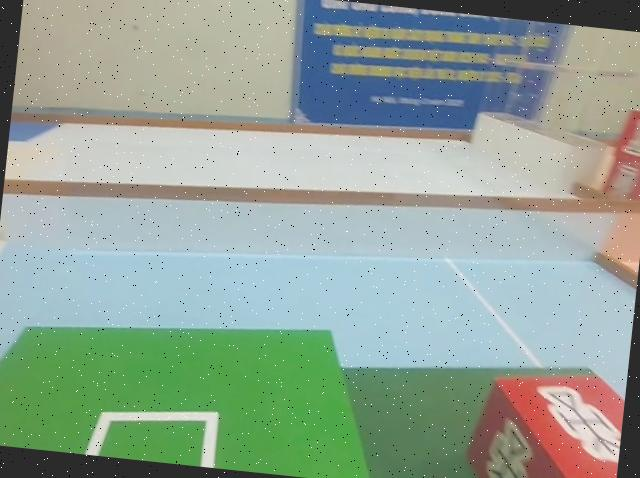R2 Real: (461, 366, 627, 478)
